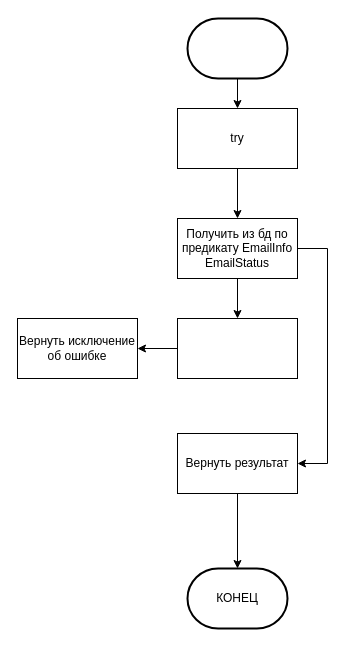
Image size: 353x646. Some labels were removed from this diagram. The centre of each missing label's shape, as x and y in pixels:
"catch" goes at pixel 237 348.
"НАЧАЛО" goes at pixel 237 48.
